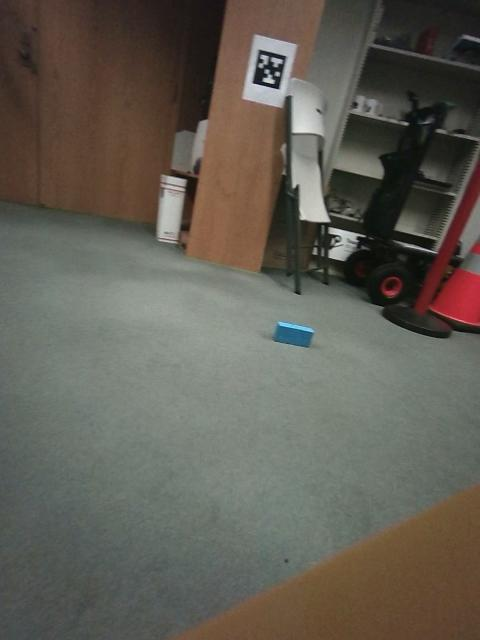block: (136, 254, 165, 281)
